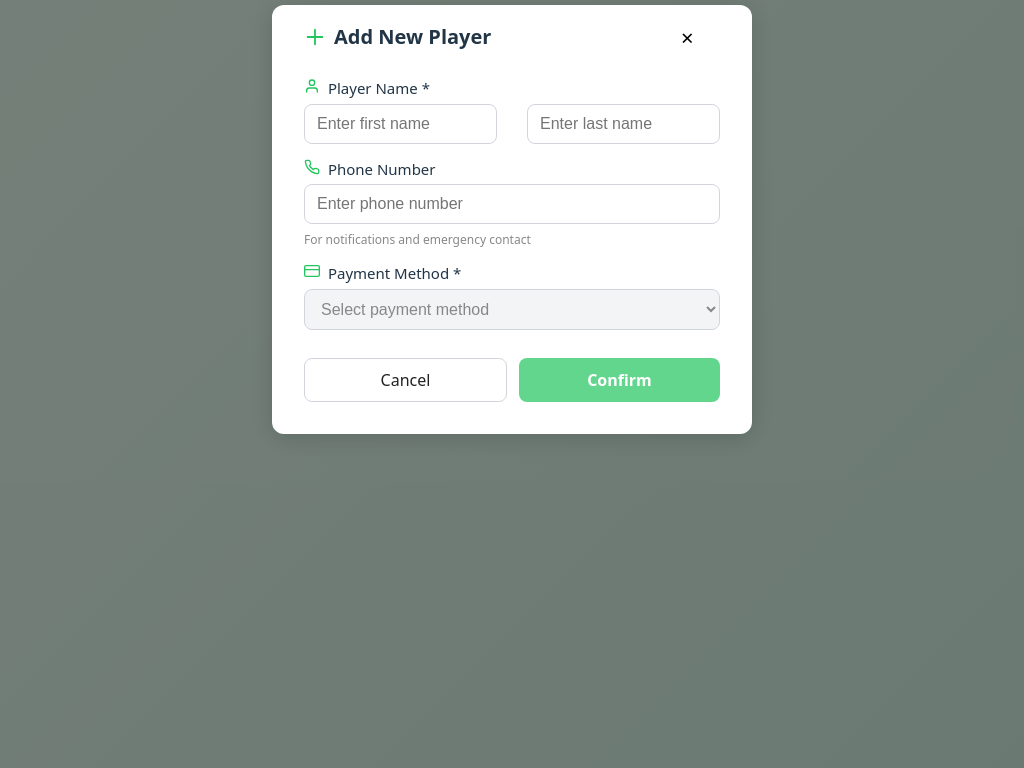
AddPlayerModal player lookup features › should auto-fill player information when dropdown item is clicked
The width and height of the screenshot is (1024, 768).
In the field with placeholder "Enter first name": (400, 124) [304,104,497,144], type "Alice"
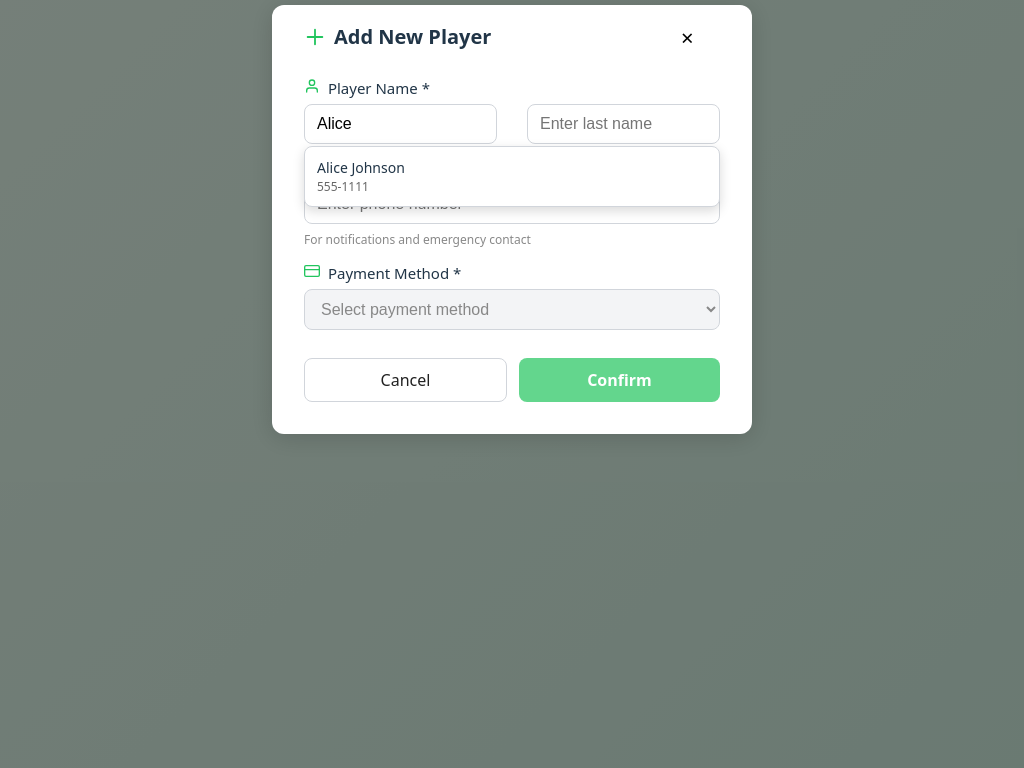
Expected: the text "Alice Johnson" is shown
// Click on the dropdown item
Click the text "Alice Johnson": (361, 167) [317,158,405,177]
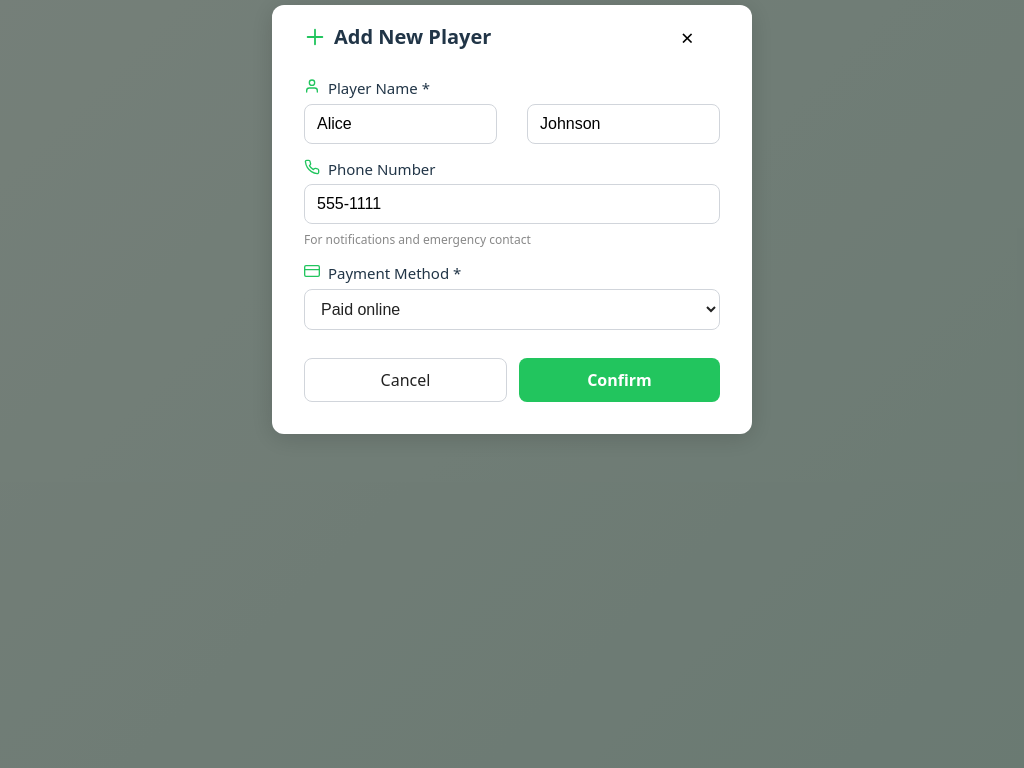
Expected: the 2nd field with placeholder "Enter last name" holds "Johnson", [527,104,720,144]
Expected: the field with placeholder "Enter phone number" below "Phone Number" holds "555-1111", [304,184,720,224]
Expected: the dropdown shows "Paid online", [304,289,720,330]
